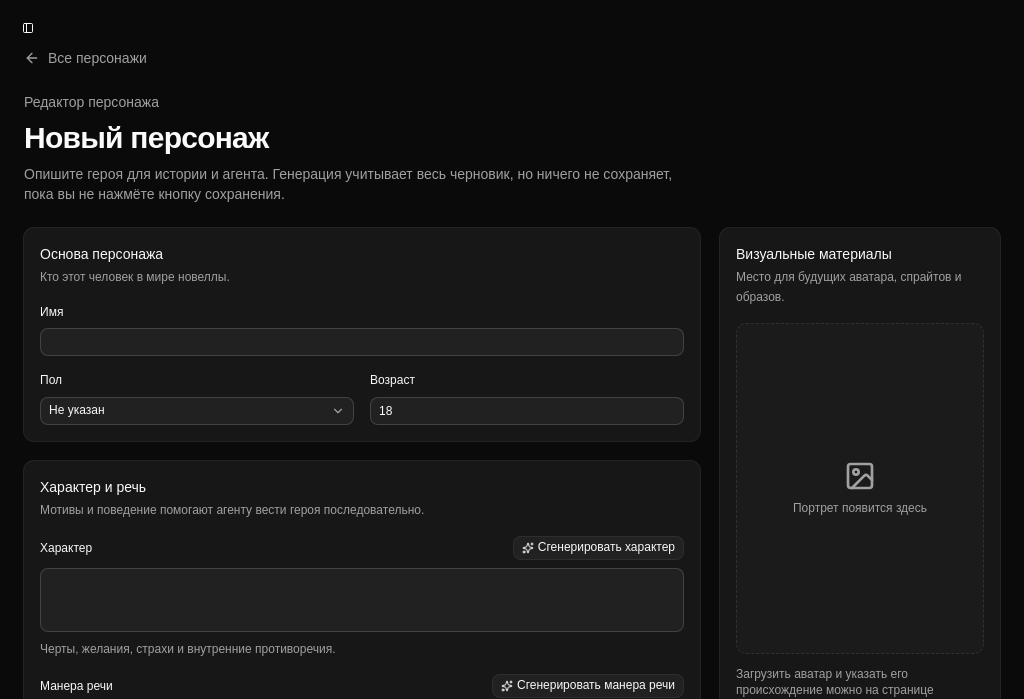
it: generates one field using the unsaved draft and leaves it editable
Step 1. Type "Леон" into the field labelled "Имя" → [362, 342], box [40,328,684,356]
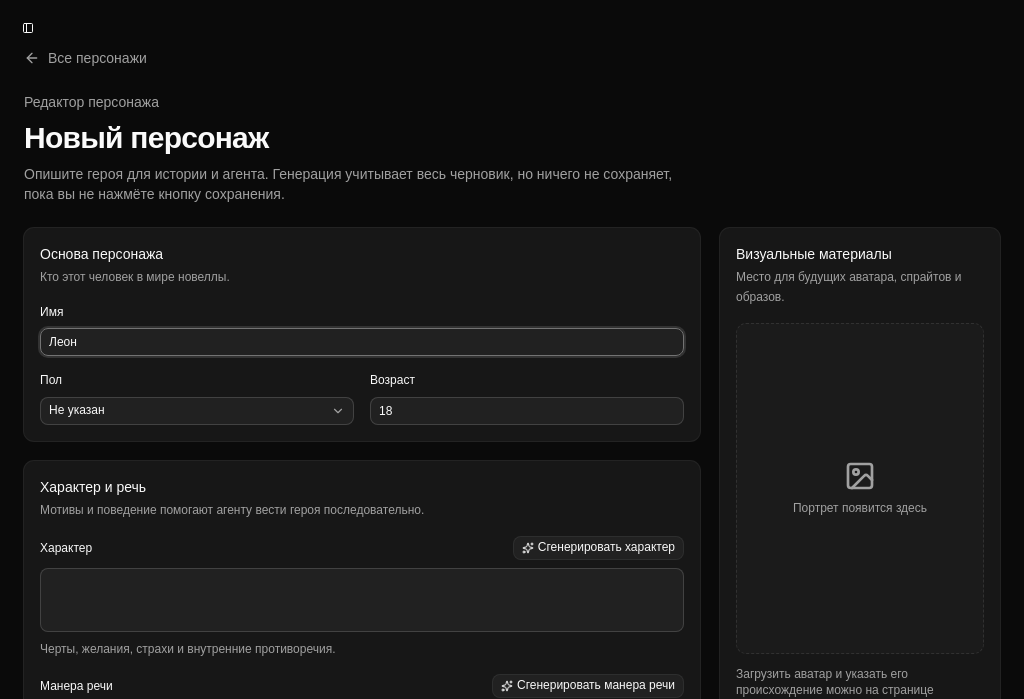
Step 2. Type "Любит дождь" into the text box labelled "Характер" → [362, 600], box [40,568,684,632]
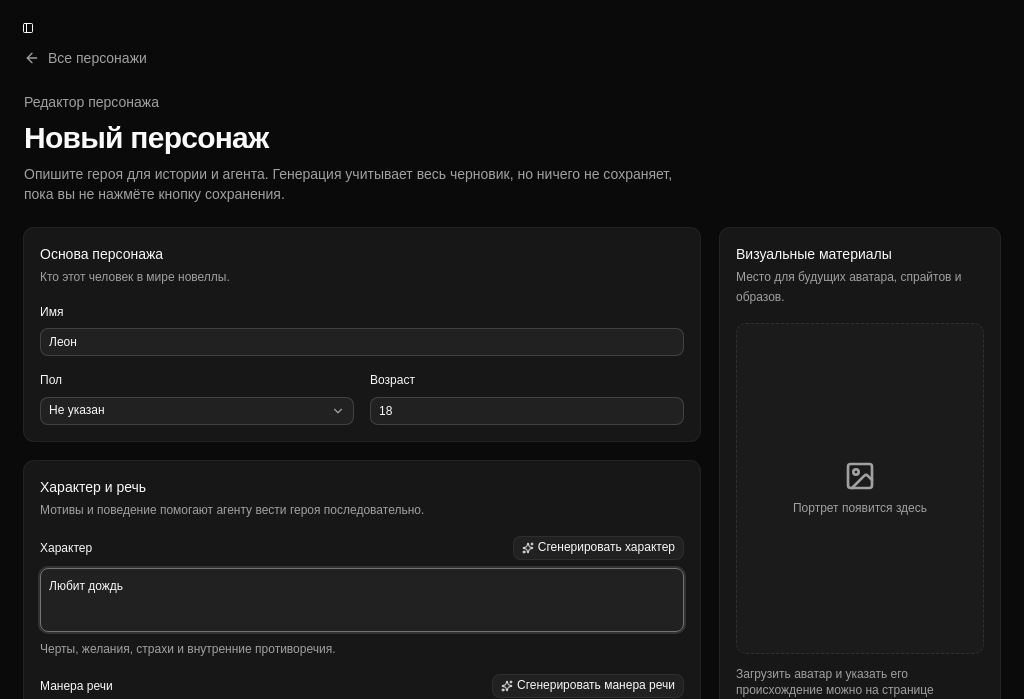
Step 3. Click the button "Сгенерировать характер" → [598, 548], box [513,536,684,560]
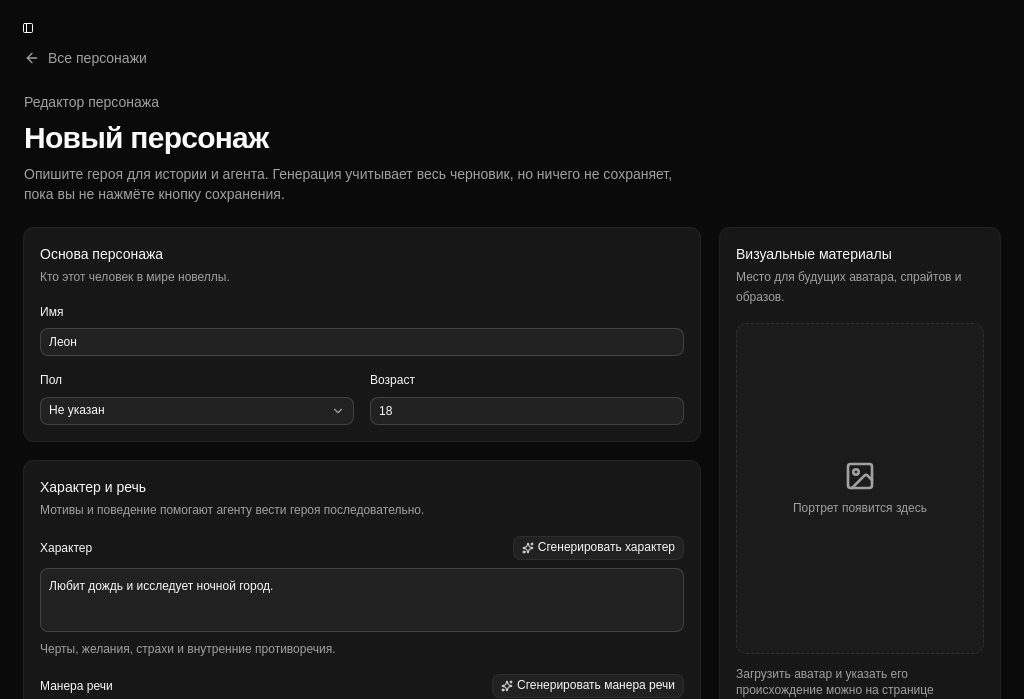
Expected: the text box labelled "Характер" holds "Любит дождь и исследует ночной город.", [40,568,684,632]
